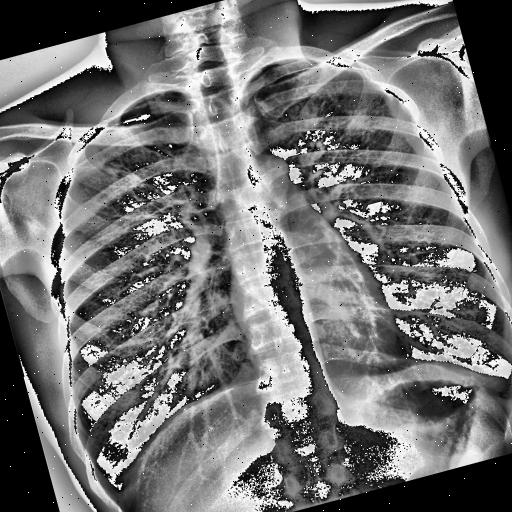10- Pleural effusion: (88, 452, 161, 512), (467, 346, 512, 427), (89, 465, 149, 512), (485, 364, 512, 410)
11- Pleural thickening: (88, 452, 161, 512), (467, 346, 512, 427), (236, 49, 312, 88), (89, 465, 149, 512), (117, 88, 169, 113), (485, 364, 512, 410)
13- Pulmonary fibrosis: (76, 130, 172, 232), (88, 144, 162, 234), (289, 64, 372, 144), (80, 150, 146, 206), (338, 103, 374, 137)
